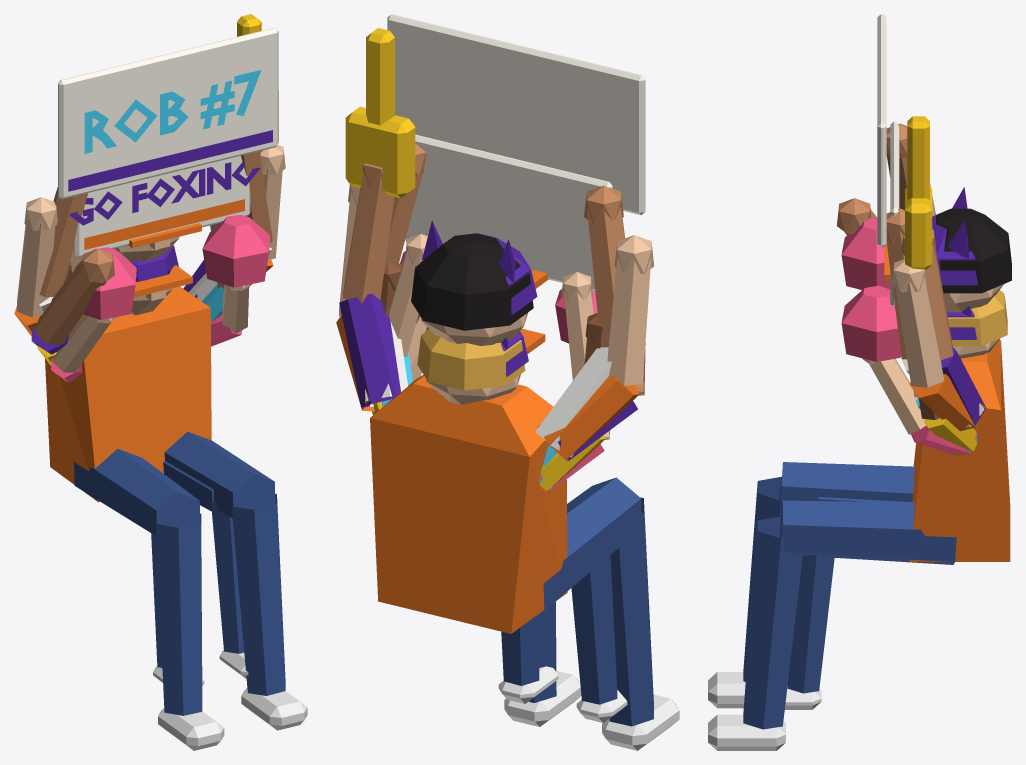
The model's file is sb-crowd.glb.
3 renders of one model, left to right at view 1: azimuth 30°, elevation 25°; view 2: azimuth 150°, elevation 25°; view 3: azimuth 270°, elevation 25°, orthographic. The views are drawn at different scales.
Parts seen in each view (by area): view 1: Fan1, Fan5, Fan3, Fan6, Fan2, Fan4; view 2: Fan1, Fan5, Fan3, Fan2, Fan4, Fan6; view 3: Fan1, Fan2, Fan6, Fan3, Fan5, Fan4.
Boxes of the visible parts, box(x1,y1,x2,y2) form: Fan1: box(14, 145, 307, 750); Fan5: box(39, 28, 278, 310); Fan3: box(69, 156, 259, 685); Fan6: box(51, 215, 269, 382); Fan2: box(31, 14, 278, 354); Fan4: box(37, 245, 192, 381); Fan1: box(336, 184, 679, 750); Fan5: box(365, 14, 645, 457); Fan3: box(382, 134, 627, 722); Fan2: box(339, 28, 645, 461); Fan4: box(372, 262, 605, 491); Fan6: box(400, 251, 609, 492); Fan1: box(708, 184, 1010, 750); Fan2: box(837, 116, 1011, 425); Fan6: box(841, 218, 977, 455); Fan3: box(784, 121, 1007, 709); Fan5: box(877, 14, 984, 427); Fan4: box(918, 306, 976, 455).
Size of the model in its own units: 0.684 by 1.58 by 0.6636.
